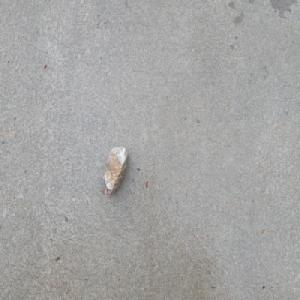Rock: (102, 144, 129, 198)
